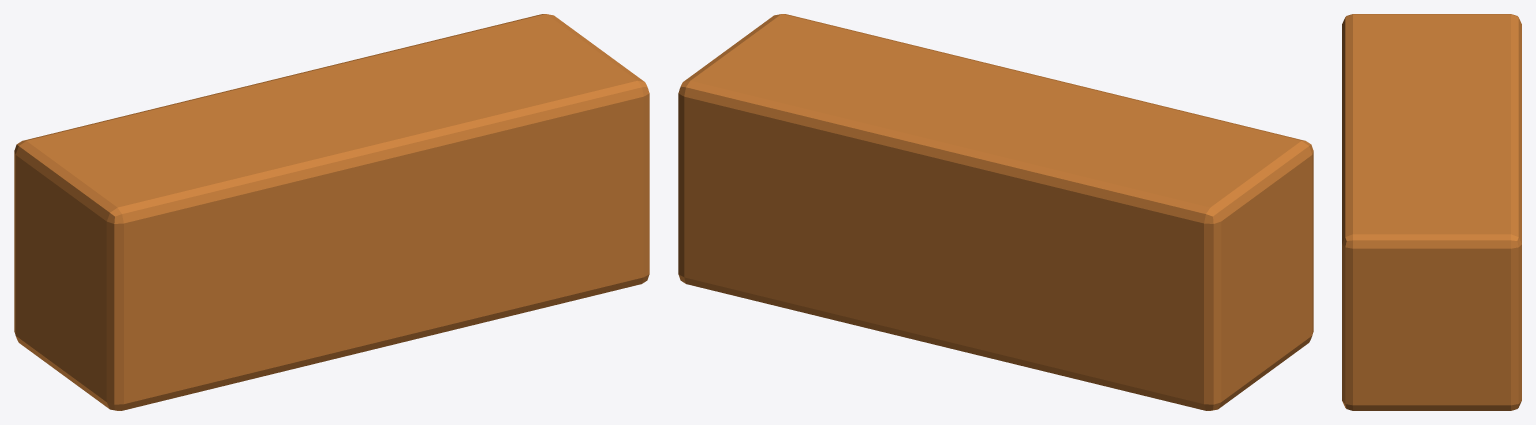
Rendered from Brick.fbx.
3 views of the same model, side by side, from view 1: azimuth 30°, elevation 25°; view 2: azimuth 150°, elevation 25°; view 3: azimuth 270°, elevation 25° (orthographic). The views are drawn at different scales.
Visible parts, largest first — view 1: Cube; view 2: Cube; view 3: Cube.
Boxes of the visible parts, x1,y1,x2,y2 form: Cube: [14, 14, 649, 410]; Cube: [678, 14, 1313, 410]; Cube: [1342, 14, 1521, 410].
Size of the model in its own units: 50 by 17.94 by 16.58.
